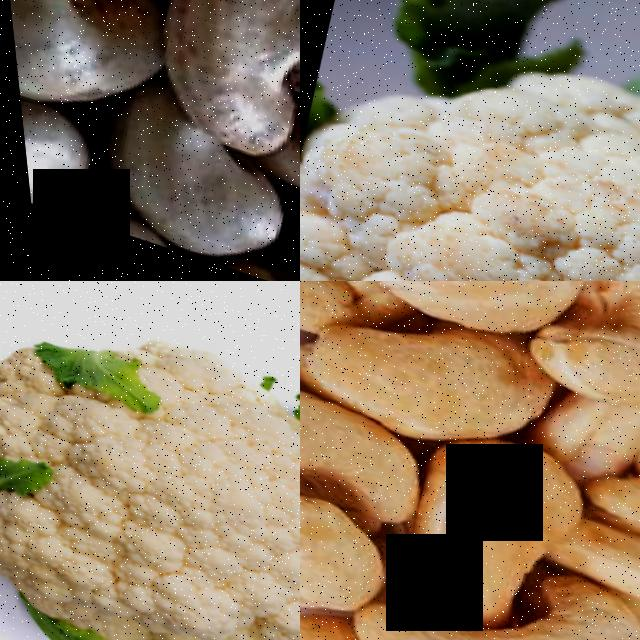cashew: (364, 411, 582, 607), (69, 81, 286, 268), (300, 281, 548, 437), (300, 307, 418, 515), (143, 0, 300, 148), (310, 570, 640, 640), (0, 0, 159, 116), (300, 435, 375, 632), (522, 502, 640, 622), (532, 281, 640, 411), (356, 281, 577, 328), (607, 393, 640, 555)
cauliflower: (0, 281, 300, 640), (300, 0, 640, 281)
